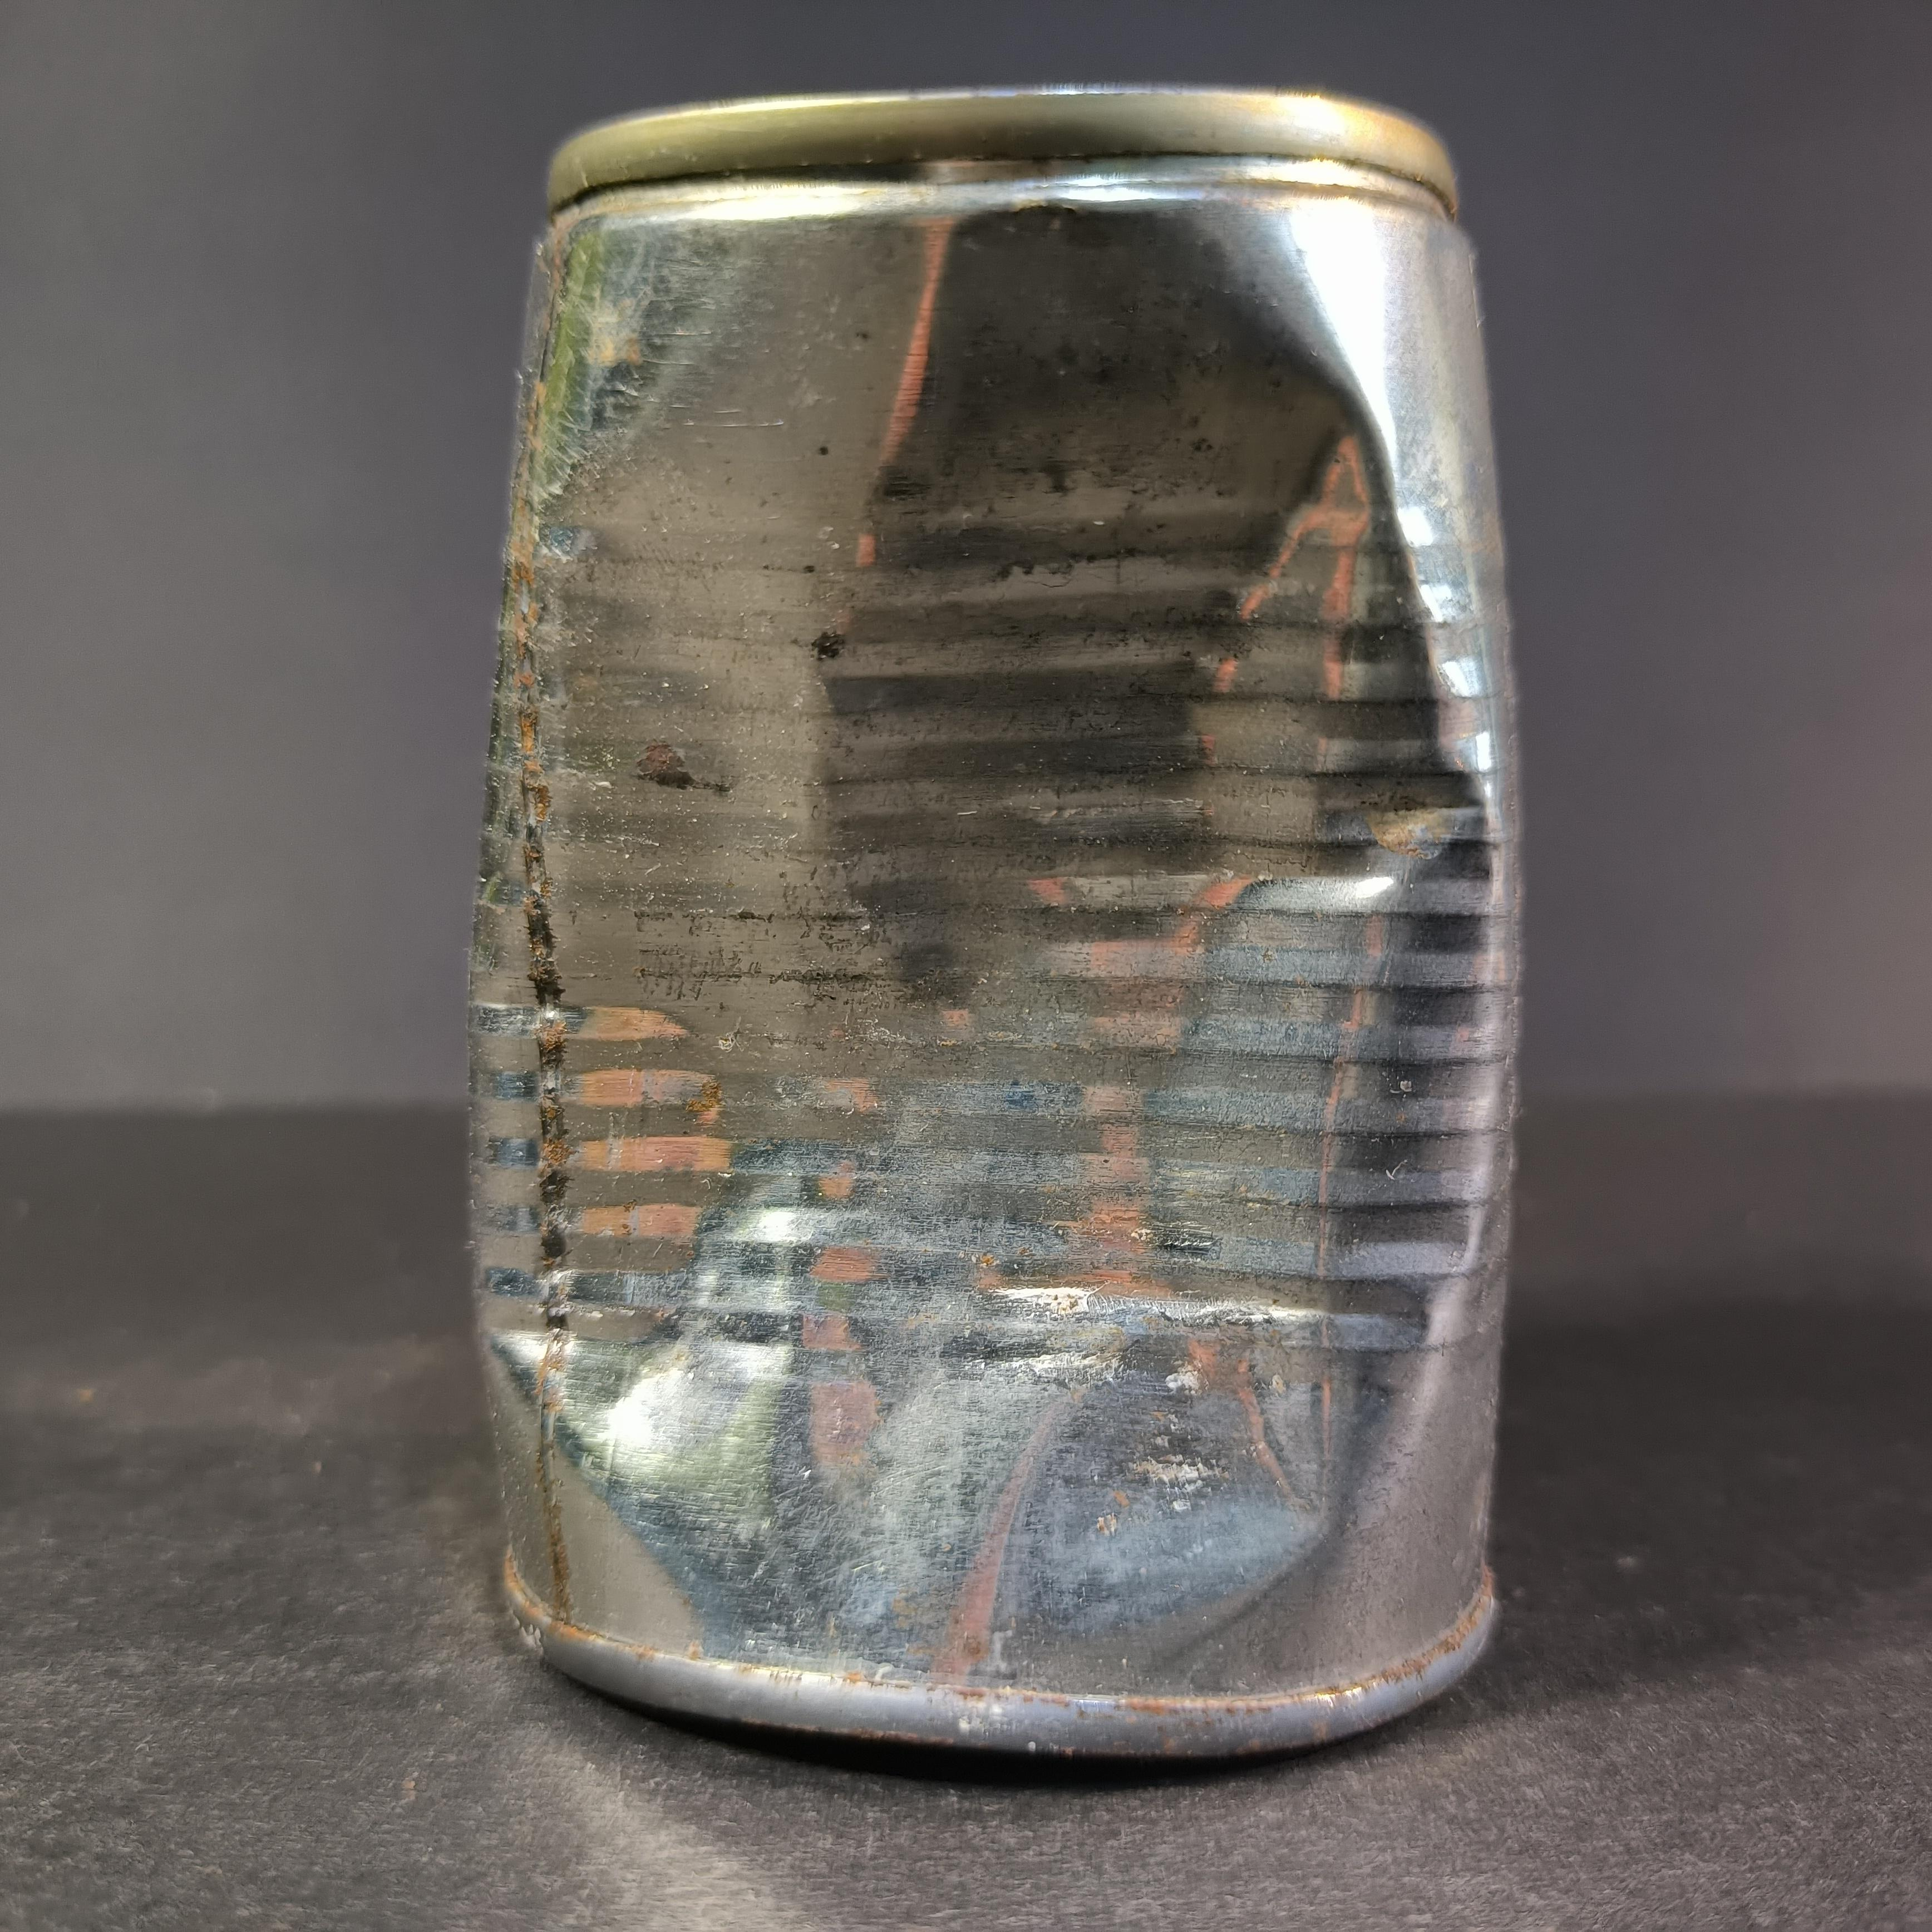Dented: (432, 50, 1546, 1778)
